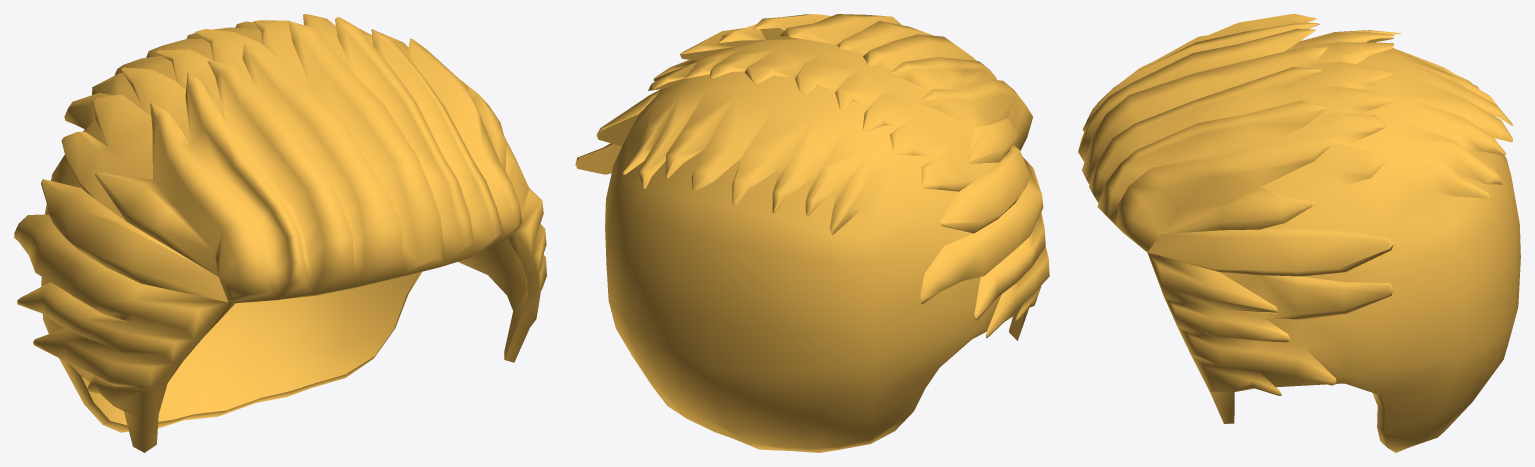
The model's file is Hair_13_05.fbx.
3 views of the same model, side by side, from view 1: azimuth 30°, elevation 25°; view 2: azimuth 150°, elevation 25°; view 3: azimuth 270°, elevation 25° (orthographic). The views are drawn at different scales.
Visible parts, largest first — view 1: Hair_13_05; view 2: Hair_13_05; view 3: Hair_13_05.
Boxes of the visible parts, x1,y1,x2,y2 form: Hair_13_05: (14, 14, 546, 452); Hair_13_05: (575, 14, 1049, 452); Hair_13_05: (1078, 14, 1520, 452).
Size of the model in its own units: 41.2 by 37.07 by 38.65.
